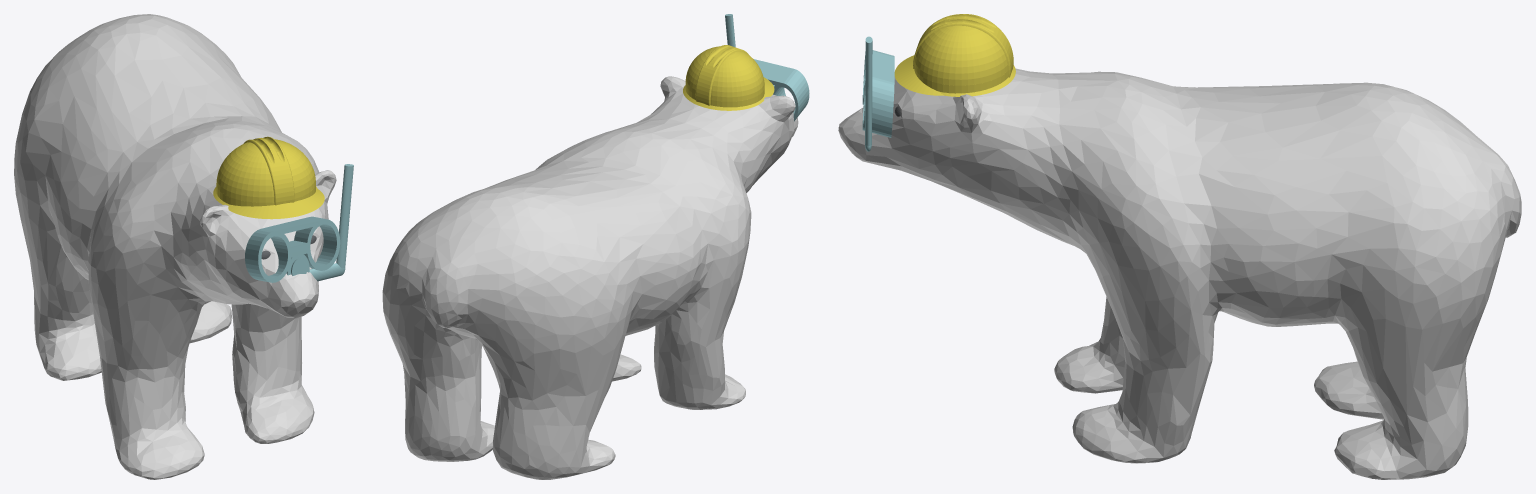
Rendered from asset.glb.
The picture shows the model from 3 angles, left to right: view 1: azimuth 30°, elevation 25°; view 2: azimuth 150°, elevation 25°; view 3: azimuth 270°, elevation 25°; orthographic projection. The views are drawn at different scales.
Visible parts, largest first — view 1: Mesh_Mesh_head_geo.001_lambert2SG.001; view 2: Mesh_Mesh_head_geo.001_lambert2SG.001; view 3: Mesh_Mesh_head_geo.001_lambert2SG.001.
Part boxes in pixels (bbox=[...]): Mesh_Mesh_head_geo.001_lambert2SG.001: bbox=[14, 14, 353, 479]; Mesh_Mesh_head_geo.001_lambert2SG.001: bbox=[382, 14, 809, 479]; Mesh_Mesh_head_geo.001_lambert2SG.001: bbox=[838, 14, 1521, 479].
Bounding box in the file's own units: 34.18 × 42 × 67.55.
